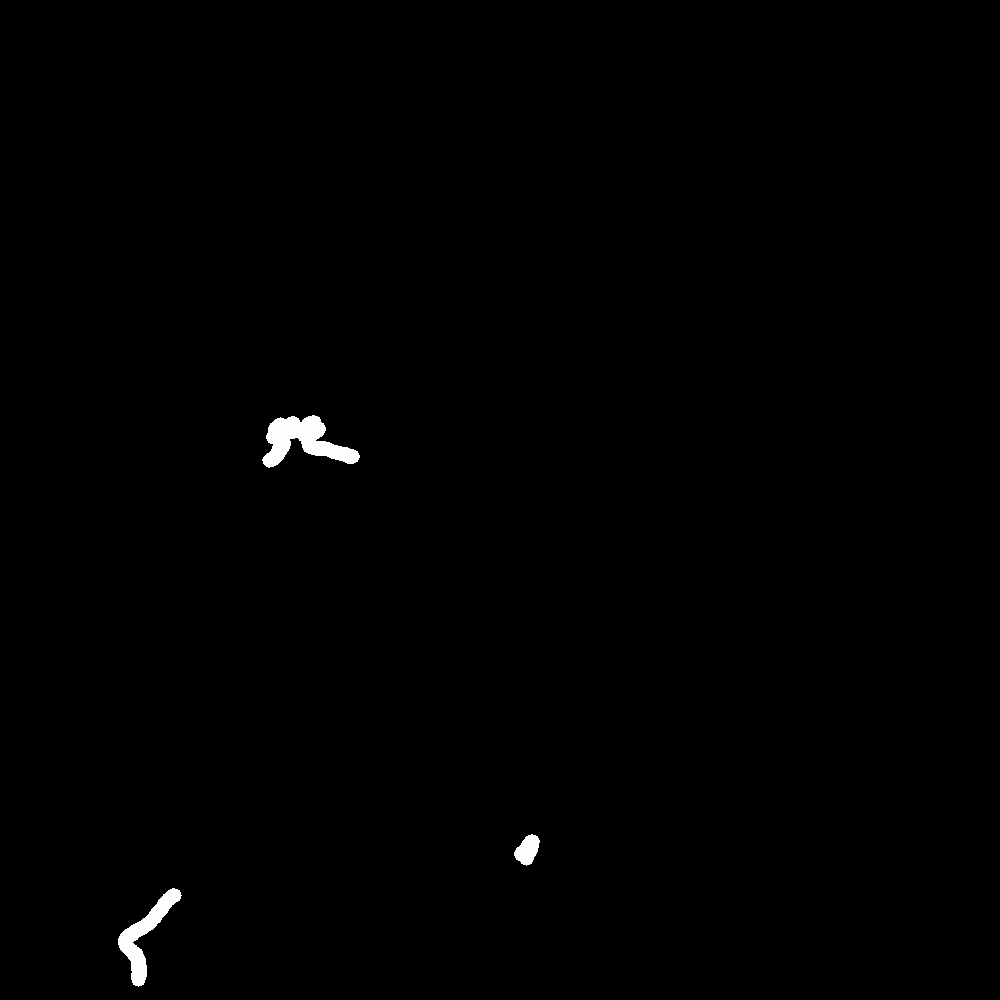illegal: (118, 879, 189, 984), (108, 651, 168, 766), (263, 408, 354, 469)
